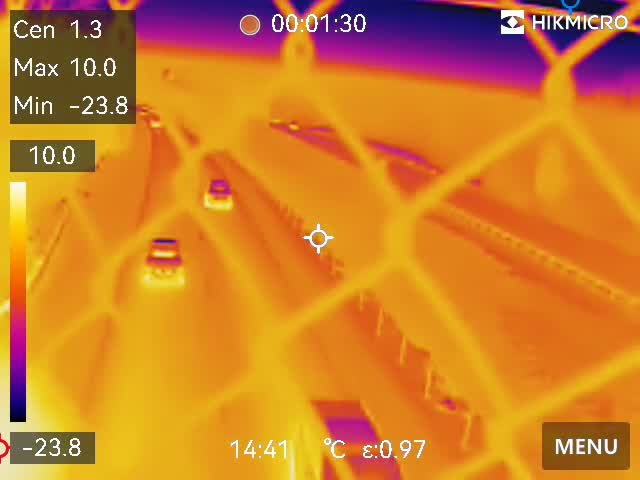vehicle: (296, 389, 404, 480), (142, 234, 192, 291), (204, 175, 243, 216), (144, 114, 166, 129)
